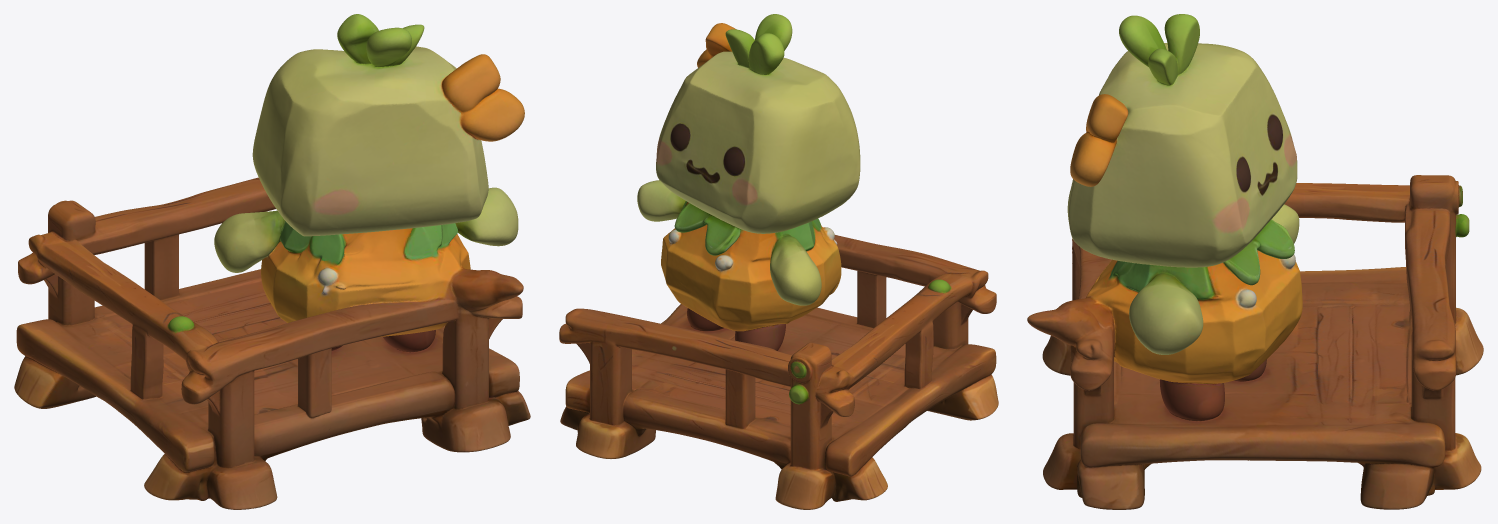
The model's file is جسر_خشبي-2.glb.
3 views of the same model, side by side, from view 1: azimuth 30°, elevation 25°; view 2: azimuth 150°, elevation 25°; view 3: azimuth 270°, elevation 25° (orthographic). The views are drawn at different scales.
Parts seen in each view (by area): view 1: tripo_node_5b344027-d729-42bc-9666-c5ff342dc988; view 2: tripo_node_5b344027-d729-42bc-9666-c5ff342dc988; view 3: tripo_node_5b344027-d729-42bc-9666-c5ff342dc988.
Boxes of the visible parts, x1,y1,x2,y2 form: tripo_node_5b344027-d729-42bc-9666-c5ff342dc988: (14, 14, 530, 509); tripo_node_5b344027-d729-42bc-9666-c5ff342dc988: (559, 14, 998, 509); tripo_node_5b344027-d729-42bc-9666-c5ff342dc988: (1027, 14, 1483, 509).
Bounding box in the file's own units: 0.9797 × 1 × 0.9432.
1 material, 1 textured.
